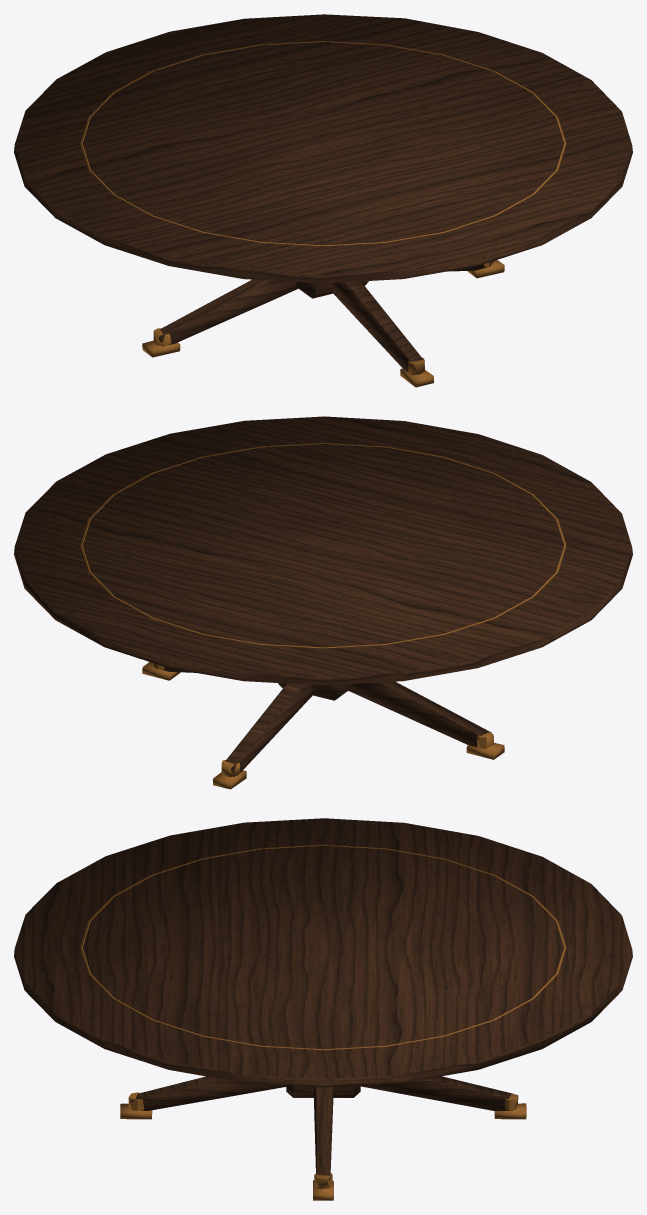
The model's file is arrival-table.lod2.glb.
The picture shows the model from 3 angles, top to bottom: view 1: azimuth 30°, elevation 25°; view 2: azimuth 150°, elevation 25°; view 3: azimuth 270°, elevation 25°; orthographic projection.
Parts seen in each view (by area): view 1: arrival_table_Timber • oiled walnut, arrival_table_Trim • brass and bronze; view 2: arrival_table_Timber • oiled walnut, arrival_table_Trim • brass and bronze; view 3: arrival_table_Timber • oiled walnut, arrival_table_Trim • brass and bronze.
Boxes of the visible parts, bbox=[...] form: arrival_table_Timber • oiled walnut: bbox=[14, 14, 632, 374]; arrival_table_Trim • brass and bronze: bbox=[80, 41, 566, 387]; arrival_table_Timber • oiled walnut: bbox=[14, 416, 632, 776]; arrival_table_Trim • brass and bronze: bbox=[80, 443, 566, 789]; arrival_table_Timber • oiled walnut: bbox=[14, 818, 632, 1188]; arrival_table_Trim • brass and bronze: bbox=[80, 844, 566, 1200].
Bounding box in the file's own units: 2 × 0.5973 × 2.
Materials: 2 (2 with a texture image).
